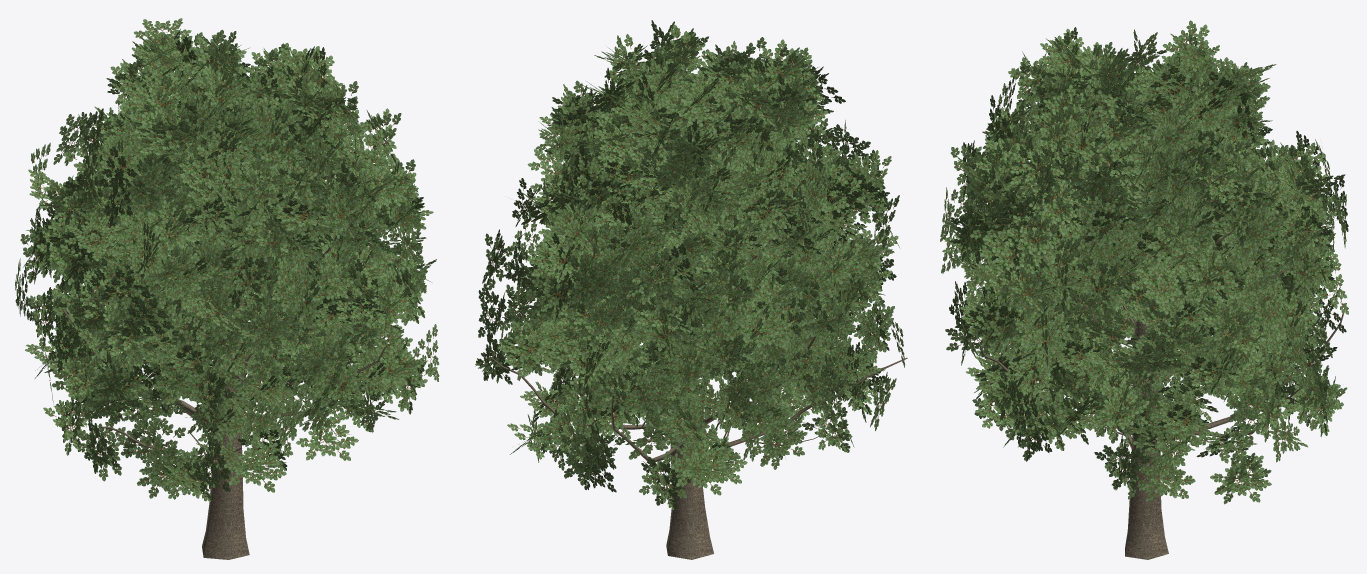
File: Fagus_Sylvatica_Spring_Adult.glb
3 views of the same model, side by side, from view 1: azimuth 30°, elevation 25°; view 2: azimuth 150°, elevation 25°; view 3: azimuth 270°, elevation 25° (orthographic).
Visible parts, largest first — view 1: Fagus_Sylvatica_Spring_Adult__LOD3; view 2: Fagus_Sylvatica_Spring_Adult__LOD3; view 3: Fagus_Sylvatica_Spring_Adult__LOD3.
Boxes of the visible parts, <box> form: Fagus_Sylvatica_Spring_Adult__LOD3: <box>15,18,439,559</box>; Fagus_Sylvatica_Spring_Adult__LOD3: <box>475,20,907,559</box>; Fagus_Sylvatica_Spring_Adult__LOD3: <box>940,20,1348,559</box>.
Size of the model in its own units: 17.29 by 24.5 by 18.2.
Materials: 2 (2 with a texture image).
